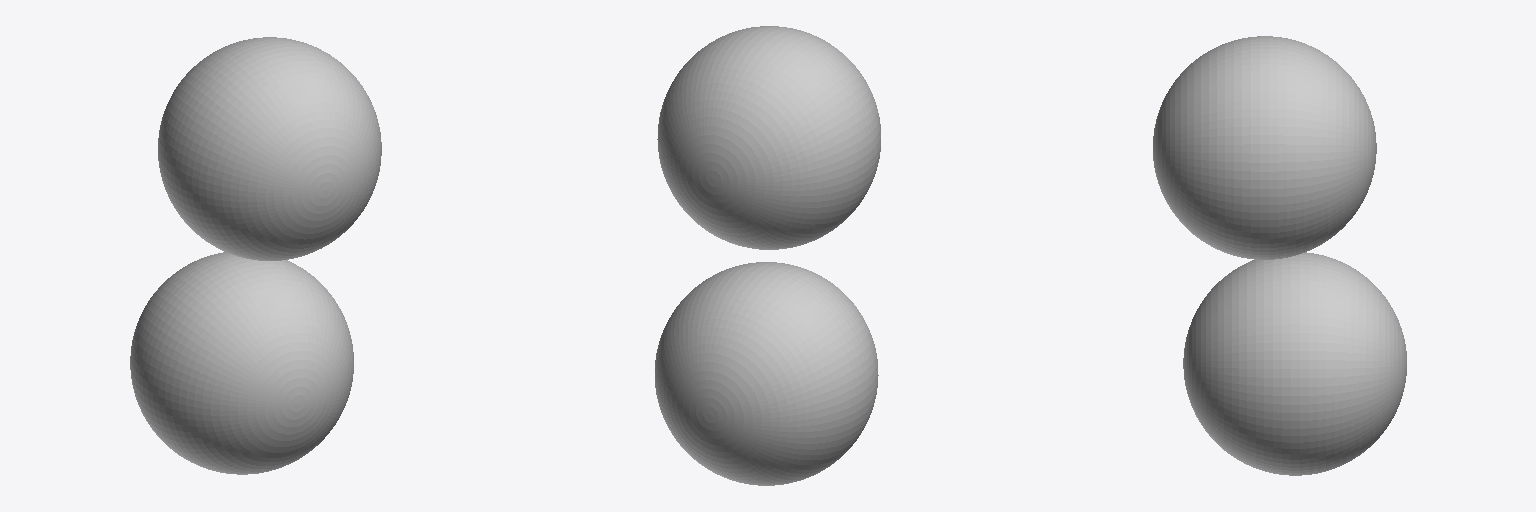
The model's file is nucleus2.obj.
3 renders of one model, left to right at view 1: azimuth 30°, elevation 25°; view 2: azimuth 150°, elevation 25°; view 3: azimuth 270°, elevation 25°, orthographic.
Parts seen in each view (by area): view 1: helim_atom_-_proton-1, helim_atom_-_proton-1.002; view 2: helim_atom_-_proton-1, helim_atom_-_proton-1.002; view 3: helim_atom_-_proton-1, helim_atom_-_proton-1.002.
Boxes of the visible parts, box(x1,y1,x2,y2) form: helim_atom_-_proton-1: box(158, 37, 381, 260); helim_atom_-_proton-1.002: box(130, 252, 353, 474); helim_atom_-_proton-1: box(657, 26, 880, 249); helim_atom_-_proton-1.002: box(655, 262, 878, 485); helim_atom_-_proton-1: box(1153, 36, 1376, 259); helim_atom_-_proton-1.002: box(1183, 252, 1406, 475).
Bounding box in the file's own units: 1.35 × 2.66 × 1.44.